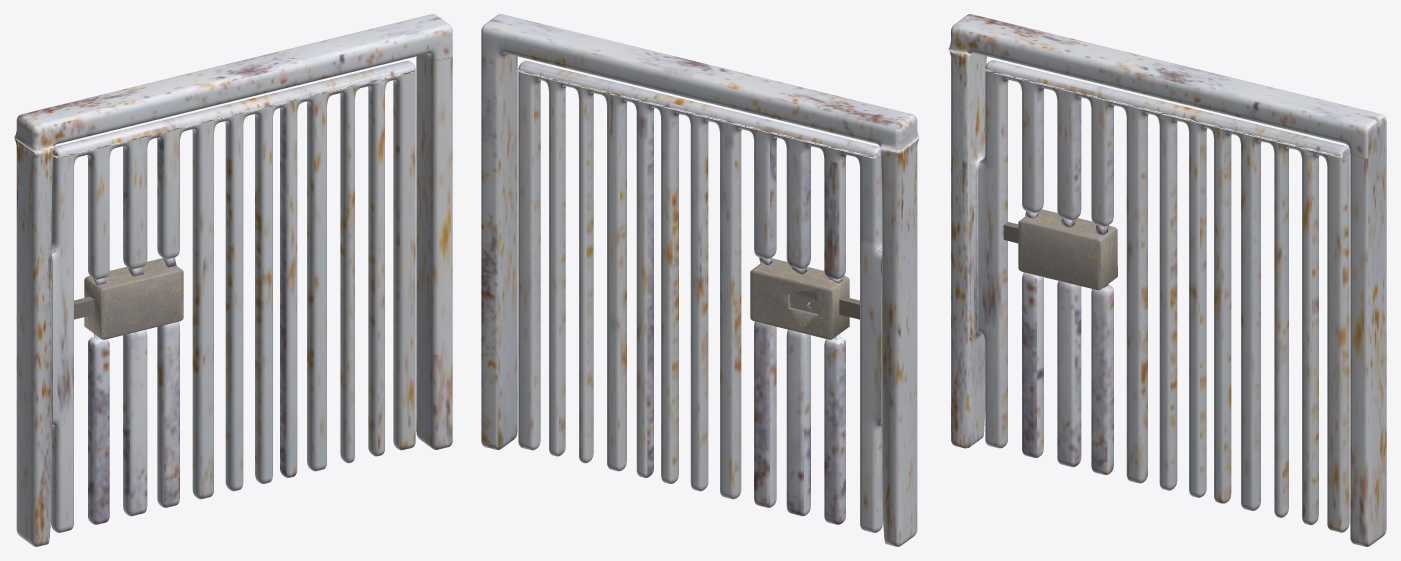
File: prison_cell_door.glb
3 views of the same model, side by side, from view 1: azimuth 30°, elevation 25°; view 2: azimuth 150°, elevation 25°; view 3: azimuth 330°, elevation 25° (orthographic).
Visible parts, largest first — view 1: door_2, cadre_0, loker_1; view 2: door_2, cadre_0, loker_1; view 3: door_2, cadre_0, loker_1.
Boxes of the visible parts, x1,y1,x2,y2 form: door_2: (51,60,415,532); cadre_0: (14,14,452,546); loker_1: (84,258,183,339); door_2: (518,60,882,532); cadre_0: (481,14,919,546); loker_1: (750,258,849,339); door_2: (978,60,1349,532); cadre_0: (948,14,1386,546); loker_1: (1018,209,1117,290).
Size of the model in its own units: 5.01 by 4.81 by 0.4214.
Materials: 4 (4 with a texture image).
